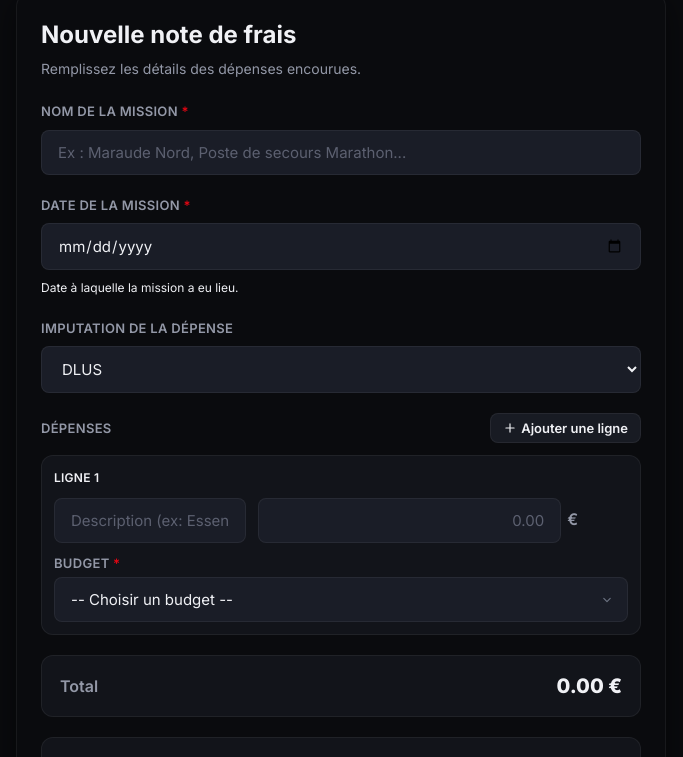
Test: ExpenseForm › refuse l'enregistrement sans dépense valide
Type "Maraude Nord" into the field labelled "Nom de la mission *" at (341, 152), box [41,130,641,175]
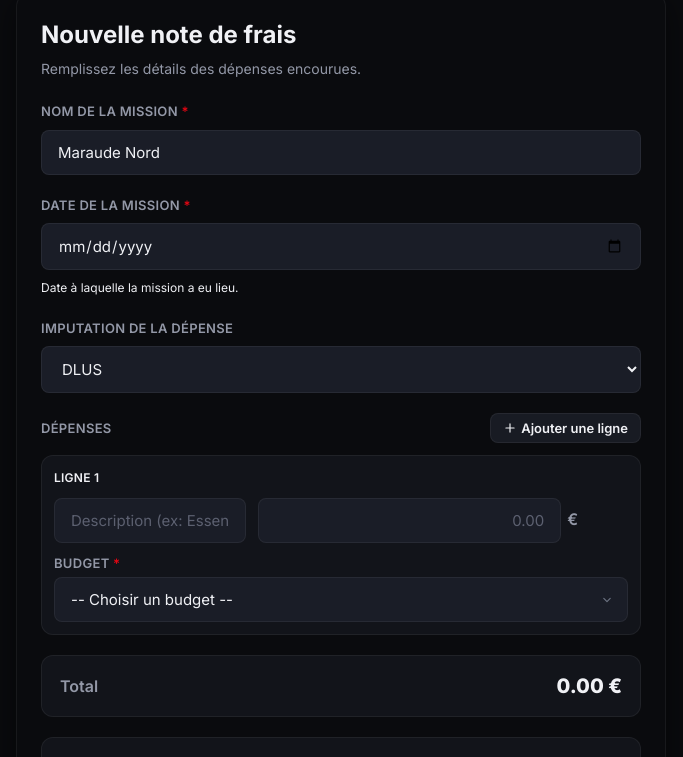
Type "2026-03-12" into the date field labelled "Date de la mission *" at (341, 247), box [41,223,641,270]
(page scrolled)
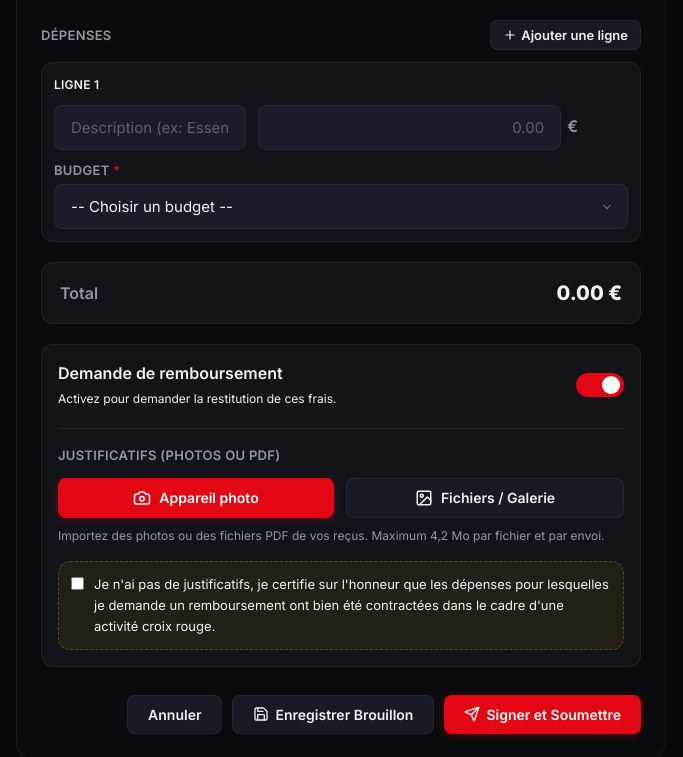
Click the button "Enregistrer Brouillon" at (333, 714), box [232,694,434,734]
(page scrolled)
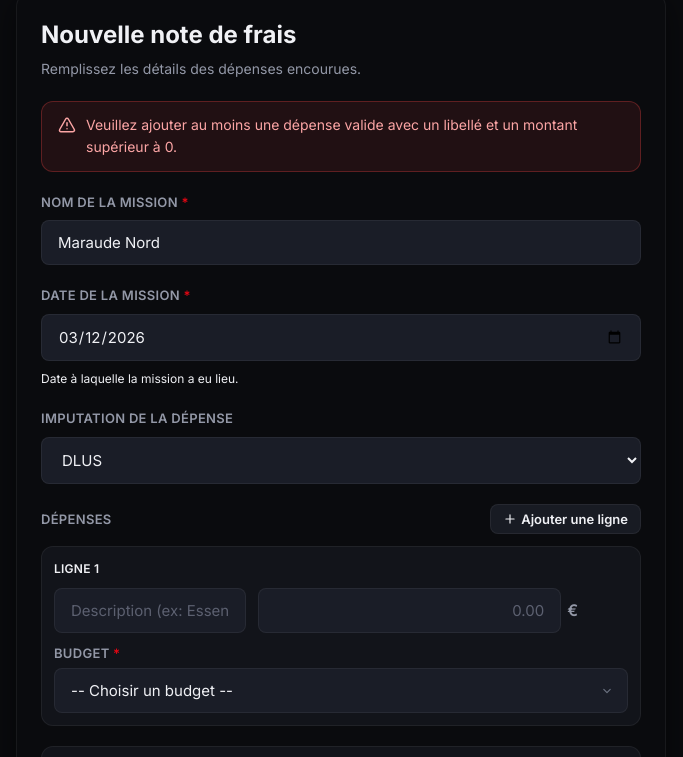
Check: the text "Veuillez ajouter au moins une dépense valide avec un libellé et un montant supérieur à 0." is shown, box [86,116,577,155]
